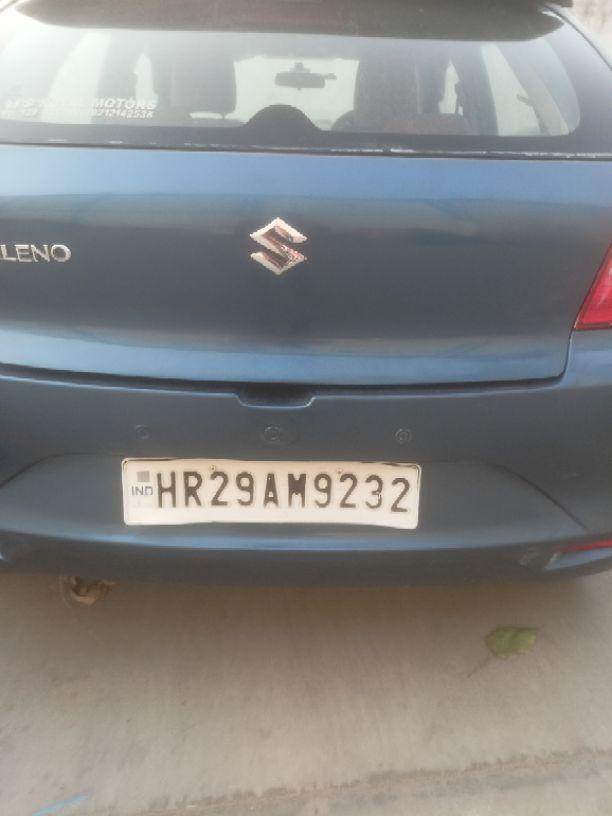license_plate: (120, 456, 422, 530)
